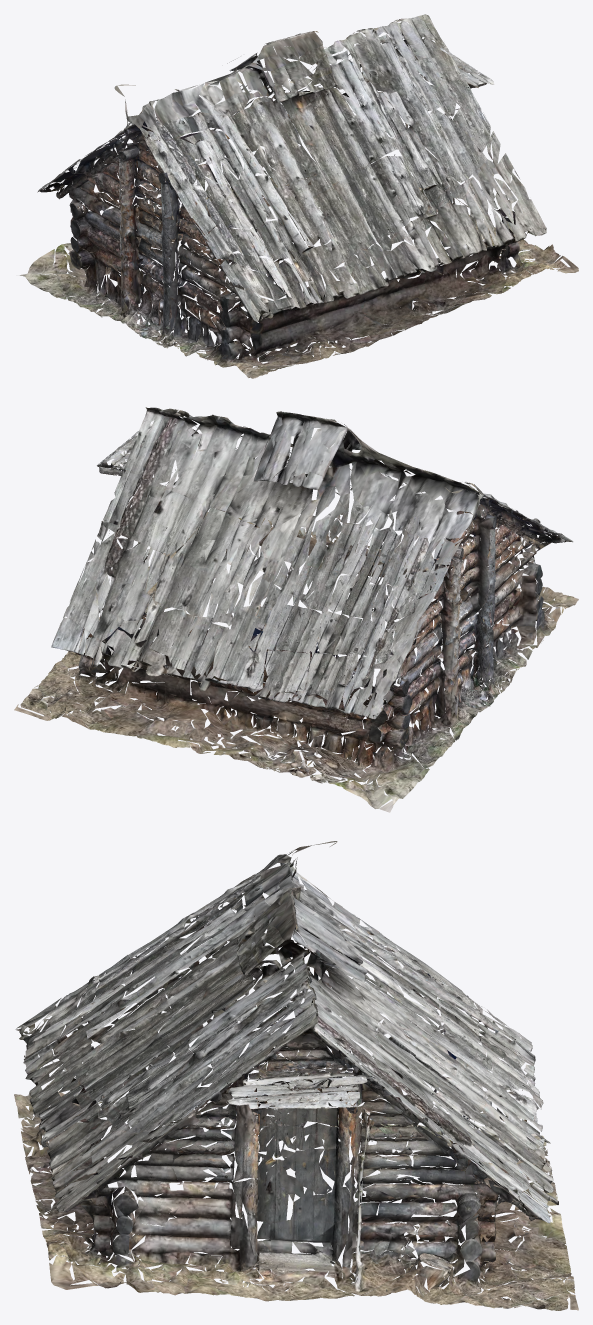
Rendered from forest_hut.glb.
3 renders of one model, top to bottom at view 1: azimuth 30°, elevation 25°; view 2: azimuth 150°, elevation 25°; view 3: azimuth 270°, elevation 25°, orthographic. The views are drawn at different scales.
Visible parts, largest first — view 1: Object_4, Object_10; view 2: Object_10, Object_4; view 3: Object_10, Object_4.
Part boxes in pixels (x1,y1,x2,y2): Object_4: (19, 17, 578, 378); Object_10: (27, 14, 567, 369); Object_10: (14, 407, 563, 808); Object_4: (20, 407, 578, 812); Object_10: (15, 841, 578, 1310); Object_4: (14, 841, 574, 1310).
Size of the model in its own units: 5.12 by 3.51 by 5.38.
Materials: 2 (2 with a texture image).
